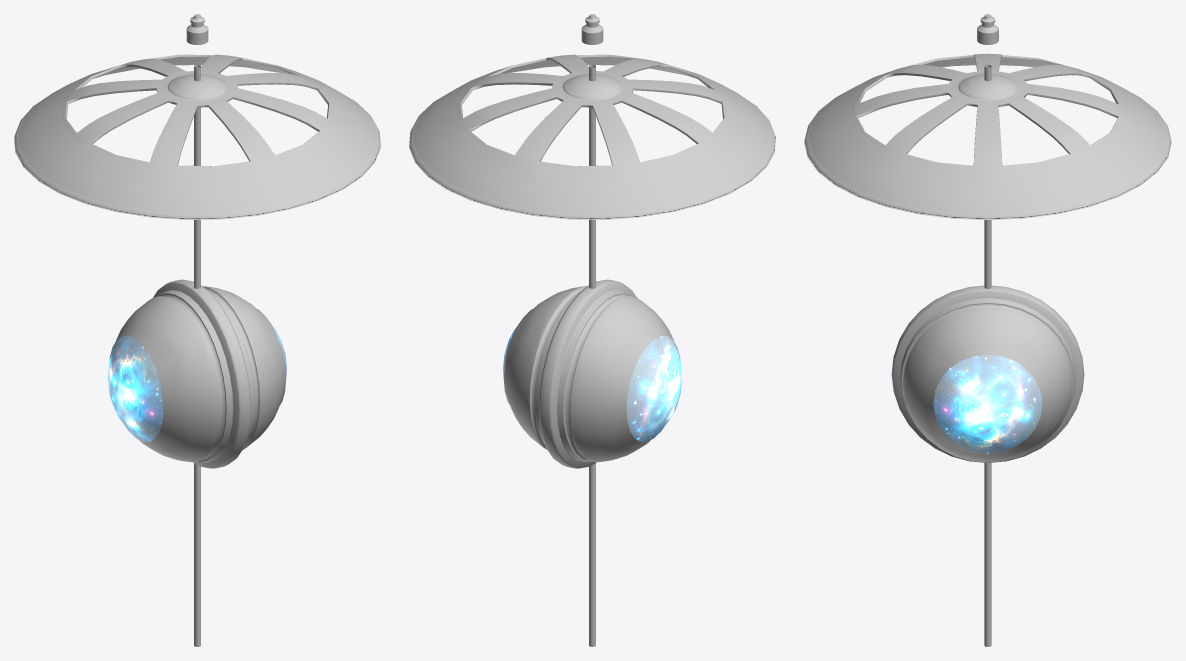
File: SM_ArmillaryStar.fbx
3 views of the same model, side by side, from view 1: azimuth 30°, elevation 25°; view 2: azimuth 150°, elevation 25°; view 3: azimuth 270°, elevation 25° (orthographic).
Parts seen in each view (by area): view 1: SM_ArmillaryStar_LOD0; view 2: SM_ArmillaryStar_LOD0; view 3: SM_ArmillaryStar_LOD0.
Boxes of the visible parts, x1,y1,x2,y2 form: SM_ArmillaryStar_LOD0: (14,14,380,646); SM_ArmillaryStar_LOD0: (409,14,775,646); SM_ArmillaryStar_LOD0: (804,14,1171,646).
Bounding box in the file's own units: 15.05 × 15.05 × 28.45.
